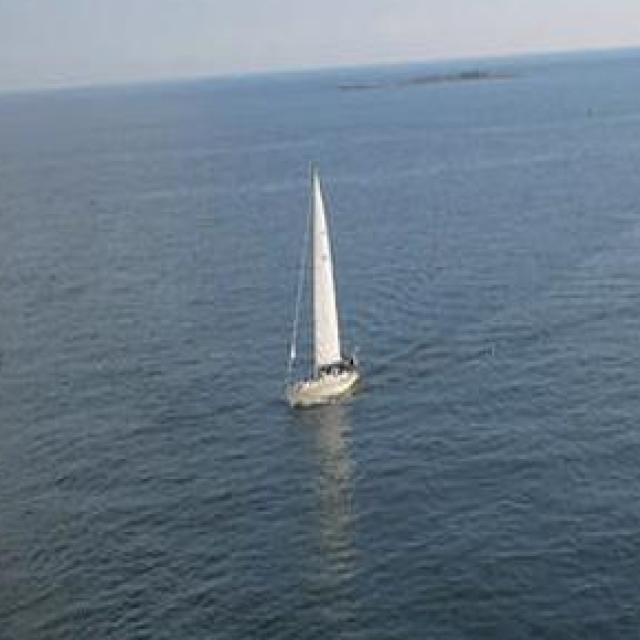sailboat: (281, 143, 362, 409)
